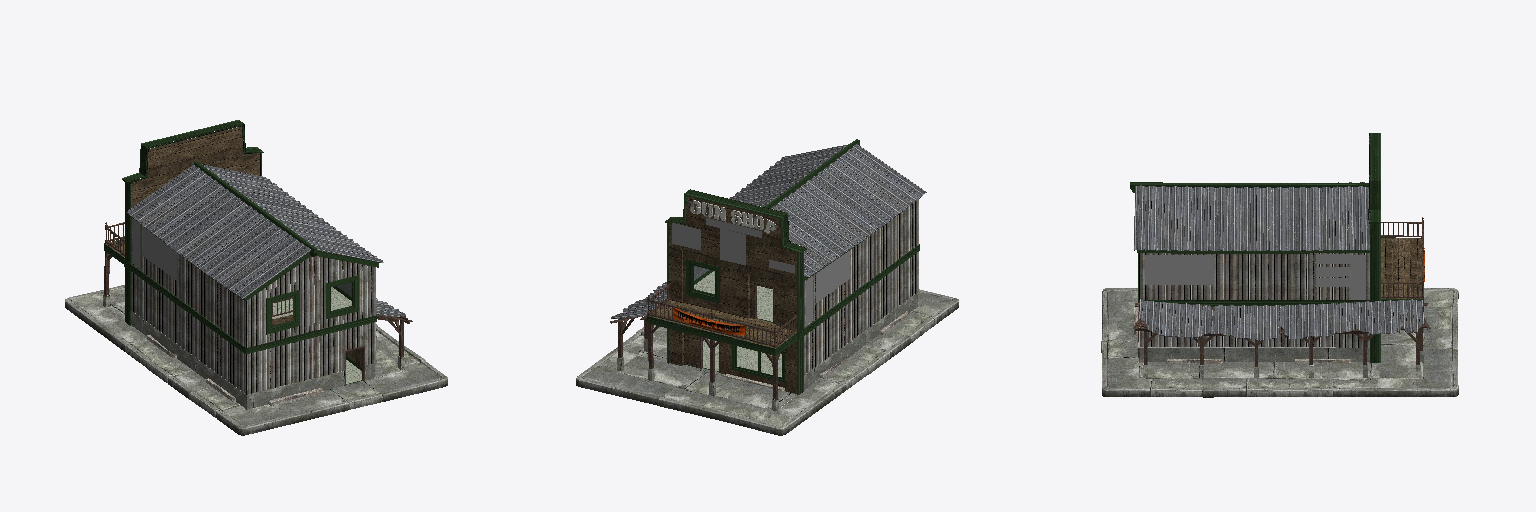
3 views of the same model, side by side, from view 1: azimuth 30°, elevation 25°; view 2: azimuth 150°, elevation 25°; view 3: azimuth 270°, elevation 25° (orthographic).
Visible parts, largest first — view 1: GunsShop; view 2: GunsShop; view 3: GunsShop.
Boxes of the visible parts, x1,y1,x2,y2 form: GunsShop: [65, 120, 447, 435]; GunsShop: [576, 139, 958, 435]; GunsShop: [1101, 133, 1458, 397].
Size of the model in its own units: 1468 by 1210 by 2149.
10 materials, 8 textured.